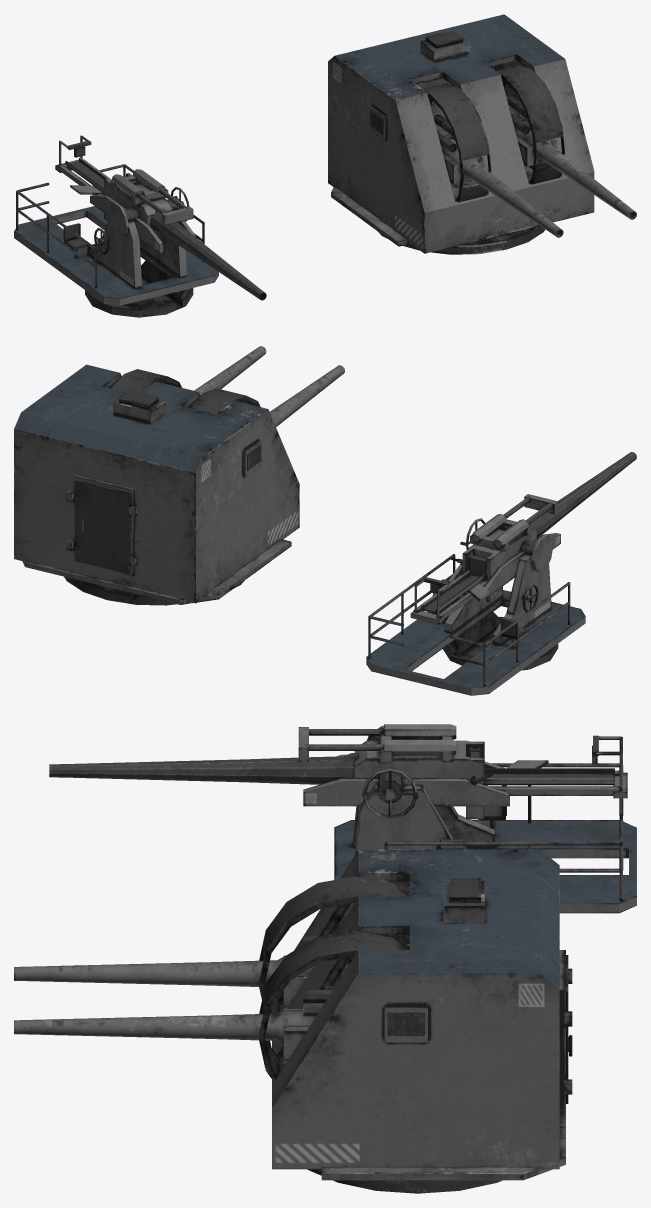
Rendered from Gunmaggedon 127mms.fbx.
The picture shows the model from 3 angles, top to bottom: view 1: azimuth 30°, elevation 25°; view 2: azimuth 150°, elevation 25°; view 3: azimuth 270°, elevation 25°; orthographic projection. The views are drawn at different scales.
Visible parts, largest first — view 1: C127_Twin_Housing, C127_Exposed_TraverseMesh, C127_Twin_Left_PortShield, C127_Twin_Right_PortShield, C127_Twin_Left_Barrel, C127_Twin_Right_Barrel, C127_Exposed_Barrel, C127_Twin_Base, C127_Twin_RoofSight_RearHatch, C127_Exposed_RecoilCylinders, C127_Twin_AccessLedge, C127_Exposed_Cradle (+6 smaller); view 2: C127_Twin_Housing, C127_Exposed_TraverseMesh, C127_Twin_RoofSight_RearHatch, C127_Twin_AccessLedge, C127_Exposed_Barrel, C127_Exposed_RecoilCylinders, C127_Twin_Left_Barrel, C127_Twin_Base, C127_Exposed_BreechHousing, C127_Exposed_Cradle, C127_Exposed_LoadingTray, C127_Twin_Left_PortShield (+5 smaller); view 3: C127_Twin_Housing, C127_Exposed_TraverseMesh, C127_Exposed_Barrel, C127_Twin_Right_Barrel, C127_Twin_Left_Barrel, C127_Twin_Right_PortShield, C127_Exposed_Cradle, C127_Twin_Left_PortShield, C127_Twin_RoofSight_RearHatch, C127_Twin_AccessLedge, C127_Exposed_BreechHousing, C127_Exposed_RecoilCylinders (+6 smaller).
Part boxes in pixels (left/top/right/bottom): C127_Twin_Housing: left=328, top=14, right=594, bottom=253; C127_Exposed_TraverseMesh: left=14, top=164, right=218, bottom=317; C127_Twin_Left_PortShield: left=422, top=83, right=491, bottom=202; C127_Twin_Right_PortShield: left=496, top=65, right=564, bottom=184; C127_Twin_Left_Barrel: left=441, top=139, right=563, bottom=237; C127_Twin_Right_Barrel: left=514, top=121, right=636, bottom=219; C127_Exposed_Barrel: left=150, top=209, right=266, bottom=300; C127_Twin_Base: left=377, top=225, right=545, bottom=254; C127_Twin_RoofSight_RearHatch: left=420, top=30, right=469, bottom=62; C127_Exposed_RecoilCylinders: left=110, top=169, right=168, bottom=205; C127_Twin_AccessLedge: left=331, top=180, right=476, bottom=246; C127_Exposed_Cradle: left=90, top=195, right=195, bottom=253; C127_Twin_Housing: left=14, top=364, right=299, bottom=603; C127_Exposed_TraverseMesh: left=366, top=554, right=585, bottom=695; C127_Twin_RoofSight_RearHatch: left=66, top=390, right=165, bottom=576; C127_Twin_AccessLedge: left=22, top=539, right=291, bottom=604; C127_Exposed_Barrel: left=529, top=452, right=636, bottom=538; C127_Exposed_RecoilCylinders: left=470, top=514, right=531, bottom=551; C127_Twin_Left_Barrel: left=269, top=365, right=344, bottom=426; C127_Twin_Base: left=64, top=576, right=244, bottom=605; C127_Exposed_BreechHousing: left=466, top=528, right=536, bottom=577; C127_Exposed_Cradle: left=447, top=533, right=560, bottom=598; C127_Exposed_LoadingTray: left=421, top=570, right=484, bottom=613; C127_Twin_Left_PortShield: left=190, top=388, right=260, bottom=413; C127_Twin_Housing: left=272, top=849, right=559, bottom=1169; C127_Exposed_TraverseMesh: left=334, top=763, right=636, bottom=913; C127_Exposed_Barrel: left=49, top=753, right=358, bottom=784; C127_Twin_Right_Barrel: left=14, top=1010, right=315, bottom=1044; C127_Twin_Left_Barrel: left=14, top=956, right=348, bottom=990; C127_Twin_Right_PortShield: left=258, top=929, right=409, bottom=1080; C127_Exposed_Cradle: left=303, top=754, right=509, bottom=806; C127_Twin_Left_PortShield: left=258, top=876, right=409, bottom=1013; C127_Twin_RoofSight_RearHatch: left=443, top=878, right=572, bottom=1109; C127_Twin_AccessLedge: left=321, top=1109, right=565, bottom=1180; C127_Exposed_BreechHousing: left=354, top=740, right=483, bottom=783; C127_Exposed_RecoilCylinders: left=380, top=724, right=456, bottom=761.
Size of what is drawn, in the model's own units: 1030 by 348 by 790.
2 materials, 2 textured.
